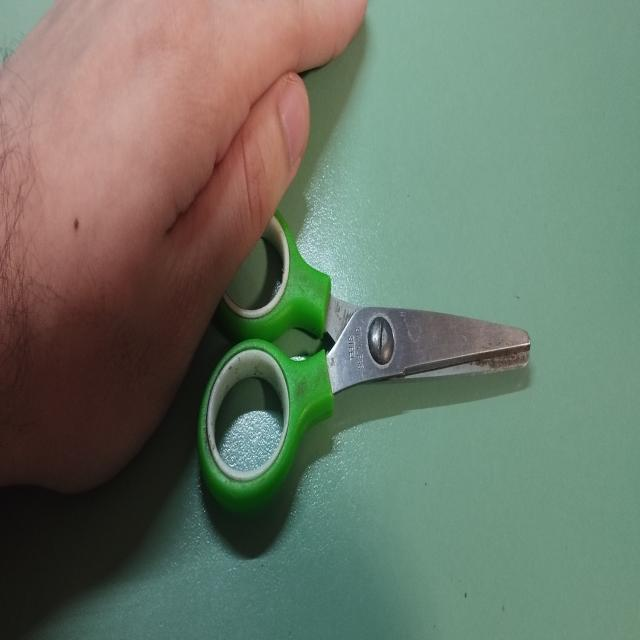tesoura: (192, 188, 535, 530)
